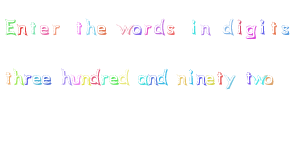E: (3, 15, 17, 37)
a: (136, 72, 150, 87)
d: (118, 66, 131, 86), (153, 17, 166, 36), (222, 17, 234, 37), (156, 68, 169, 86), (89, 68, 101, 86)
e: (41, 72, 52, 87), (31, 72, 41, 87), (38, 23, 49, 36), (205, 72, 215, 86), (97, 23, 107, 36), (109, 73, 118, 87)
g: (245, 23, 256, 40)
h: (60, 66, 72, 87), (85, 17, 97, 37), (13, 67, 23, 86)
i: (259, 16, 266, 37), (190, 18, 198, 36), (235, 19, 243, 37), (187, 67, 194, 86)
n: (194, 72, 206, 87), (16, 23, 28, 37), (176, 72, 187, 87), (200, 23, 211, 37), (80, 72, 91, 86), (147, 72, 158, 86)
o: (131, 23, 143, 36), (262, 74, 274, 85)
r: (51, 23, 61, 37), (143, 23, 152, 35), (24, 72, 31, 86), (101, 73, 108, 85)
s: (280, 23, 291, 36), (166, 23, 176, 36)
t: (28, 18, 38, 36), (74, 19, 83, 35), (270, 18, 277, 38), (4, 70, 12, 86), (215, 69, 223, 85), (244, 69, 252, 85)
u: (70, 71, 82, 87)
w: (116, 21, 133, 36), (252, 73, 266, 87)
y: (224, 72, 236, 91)
